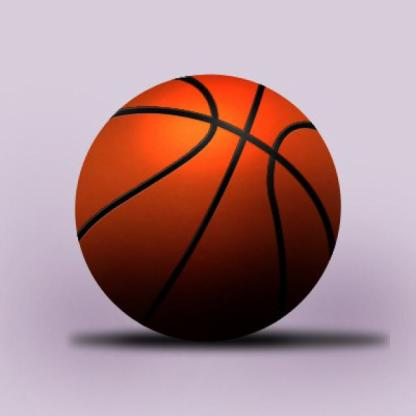basketball: (75, 69, 344, 340)
